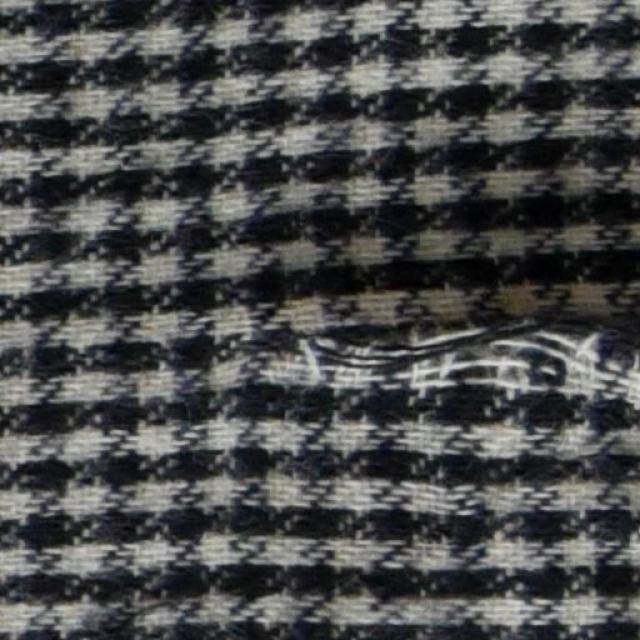Snag: (235, 297, 639, 420)
